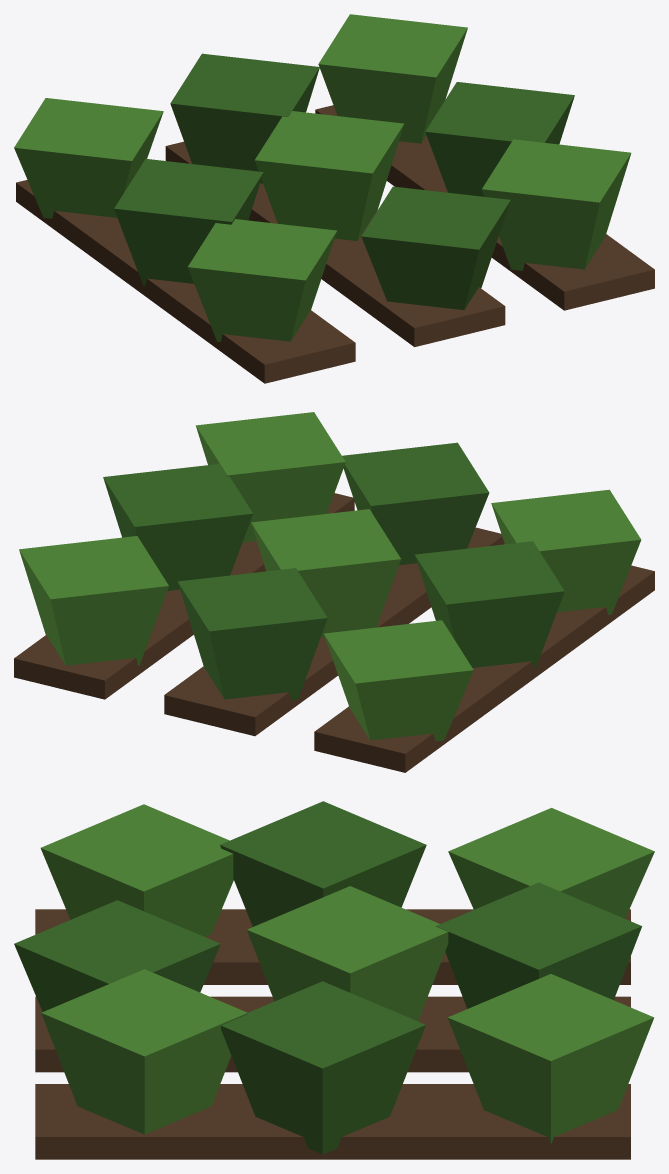
File: crop_flax_2.glb
3 views of the same model, one above another, from view 1: azimuth 30°, elevation 25°; view 2: azimuth 150°, elevation 25°; view 3: azimuth 270°, elevation 25° (orthographic). The views are drawn at different scales.
Parts seen in each view (by area): view 1: crop_flax_2; view 2: crop_flax_2; view 3: crop_flax_2.
Part boxes in pixels (<box>): crop_flax_2: <box>14,14,654,383</box>; crop_flax_2: <box>14,412,654,772</box>; crop_flax_2: <box>14,801,654,1159</box>.
Size of the model in its own units: 2.05 by 0.4126 by 2.05.
